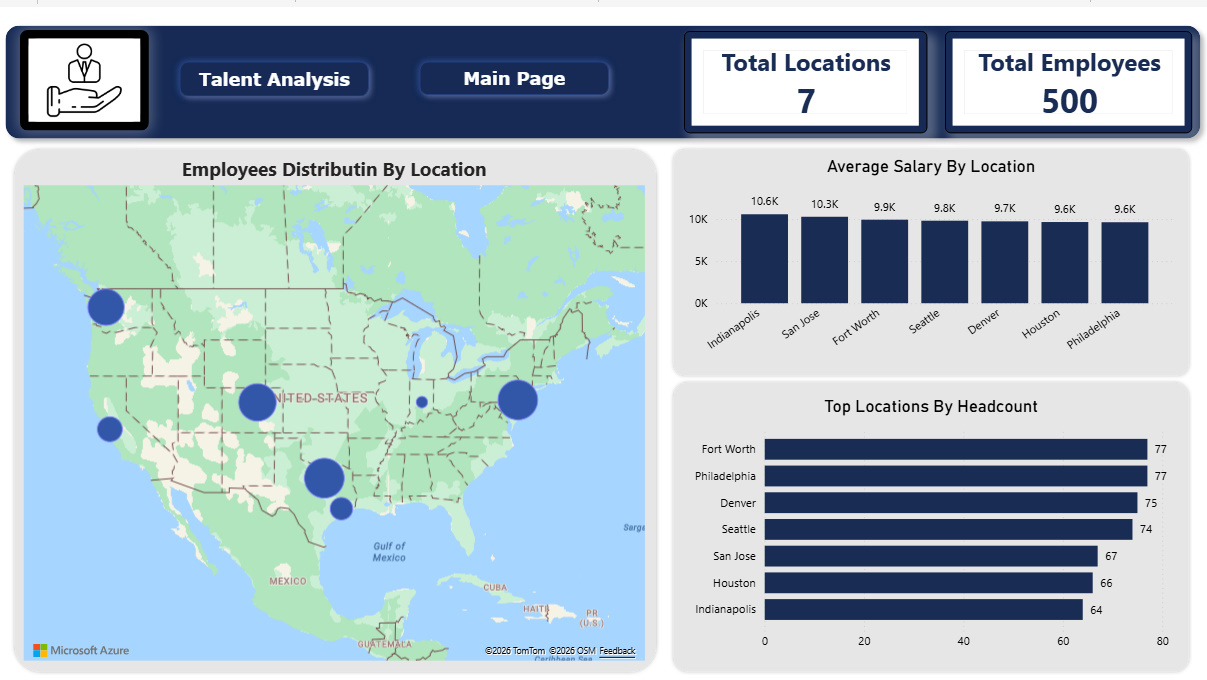

The page's visual inventory and layout, read from the dashboard file:
{"tool":"powerbi","page":{"name":"Geographic & Location Insights","canvas":[1280,720],"ordinal":2},"visuals":[{"type":"shape","box":[0,10.2,1280,137.2],"z":2000},{"type":"cardVisual","fields":{"Data":["Count(Employees.Location)"]},"box":[725.3,25.2,256.6,108.3],"z":5000},{"type":"cardVisual","fields":{"Data":["CountNonNull(Employees.Name)"]},"box":[1001.2,25.2,261,108.3],"z":6000},{"type":"shape","box":[710.5,146.8,551.7,246.2],"z":7000},{"type":"shape","box":[710.5,393,551.7,313],"z":8000},{"type":"shape","box":[14.8,146.8,685.2,559.2],"z":9000},{"type":"azureMap","title":" Employees Distributin By Location ","fields":{"Category":["Employees.Location"],"Size":["CountNonNull(Employees.Name)"]},"box":[23.3,156.7,665.6,538.9],"z":10000},{"type":"clusteredColumnChart","title":"Average  Salary By Location","fields":{"Category":["Employees.Location"],"Y":["Avg(Employees.Salary)"]},"box":[725.3,157.2,522.1,222.5],"z":11000},{"type":"clusteredBarChart","title":"Top Locations By Headcount","fields":{"Category":["Employees.Location"],"Y":["CountNonNull(Employees.Name)"]},"box":[725.3,410.8,522.1,277.4],"z":12000},{"type":"shape","box":[437.5,48.9,218,53.4],"z":14500},{"type":"shape","box":[183.9,48.9,218,54.9],"z":15000},{"type":"image","box":[23.8,23.8,136.4,106.4],"z":15500}]}

Visuals, with their boxes in screenshot pixels (x1, y1, x2, y2), scaled from the page's 1280x720 canvas onto the 1207x680 screenshot:
shape: x1=0, y1=10, x2=1206, y2=139
cardVisual - Count(Employees.Location): x1=684, y1=24, x2=926, y2=126
cardVisual - CountNonNull(Employees.Name): x1=944, y1=24, x2=1190, y2=126
shape: x1=670, y1=139, x2=1190, y2=371
shape: x1=670, y1=371, x2=1190, y2=667
shape: x1=14, y1=139, x2=660, y2=667
" Employees Distributin By Location " azureMap: x1=22, y1=148, x2=650, y2=657
"Average  Salary By Location" clusteredColumnChart: x1=684, y1=148, x2=1176, y2=359
"Top Locations By Headcount" clusteredBarChart: x1=684, y1=388, x2=1176, y2=650
shape: x1=413, y1=46, x2=618, y2=97
shape: x1=173, y1=46, x2=379, y2=98
image: x1=22, y1=22, x2=151, y2=123
